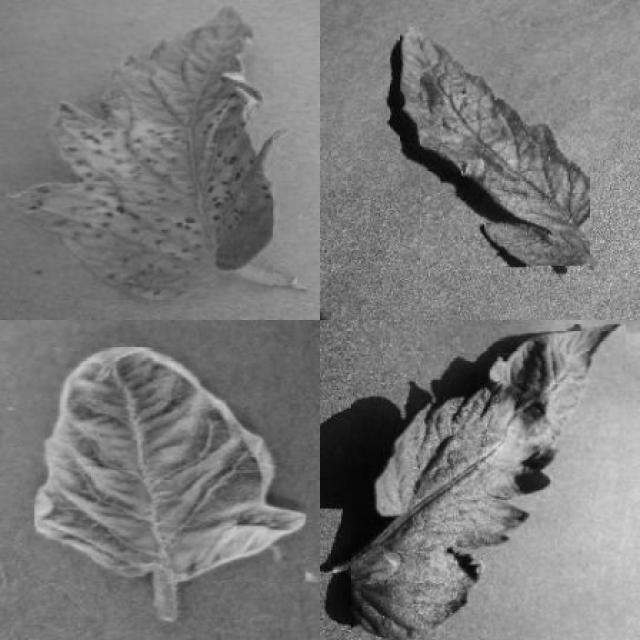Late Blight: (350, 324, 626, 640)
Mosaic Virus: (400, 27, 590, 266)
Septoria: (10, 6, 273, 301)
Yellow Leaf Curl Virus: (34, 348, 306, 582)
